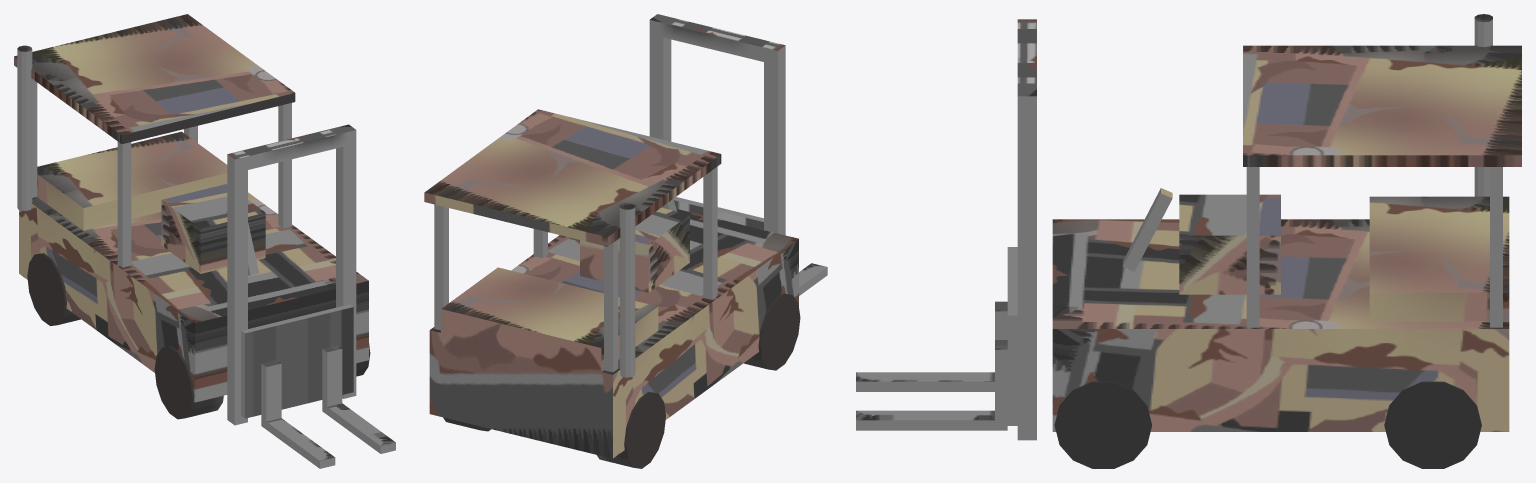
Rendered from Building_AncientForklift.glb.
3 renders of one model, left to right at view 1: azimuth 30°, elevation 25°; view 2: azimuth 150°, elevation 25°; view 3: azimuth 270°, elevation 25°, orthographic. The views are drawn at different scales.
Visible parts, largest first — view 1: AncientForklift; view 2: AncientForklift; view 3: AncientForklift.
Part boxes in pixels (x1,y1,x2,y2): AncientForklift: [14, 14, 395, 468]; AncientForklift: [424, 14, 827, 468]; AncientForklift: [856, 14, 1521, 468].
Size of the model in its own units: 1.72 by 2.41 by 4.1.
Materials: 1 (1 with a texture image).
